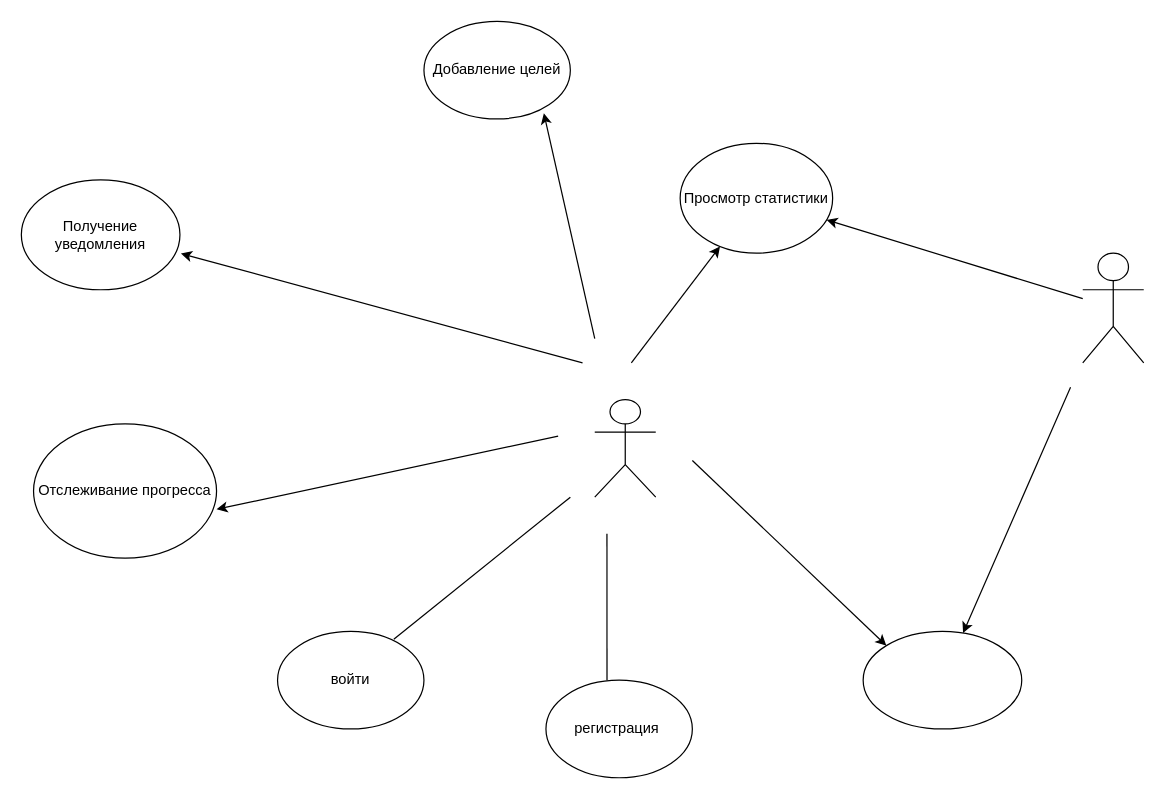
The diagram is 1165 pixels wide and 799 high, and some of its shapes have lost their labels. The shapes that lost their labels are listed below. From the top down, each one's centre as x and y in pixels, then its label:
At pixel 1113 307: "тренер".
At pixel 625 447: "пользователь".
At pixel 942 679: "Регистрация тренировок".
